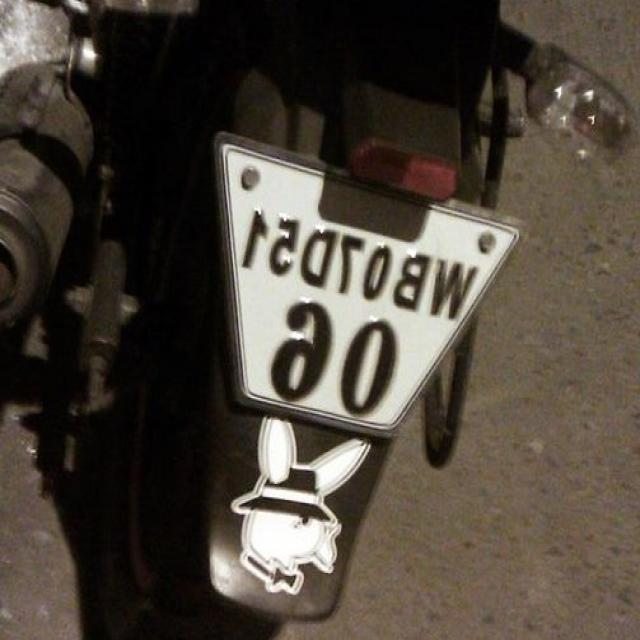license_plate: (216, 128, 528, 439)
